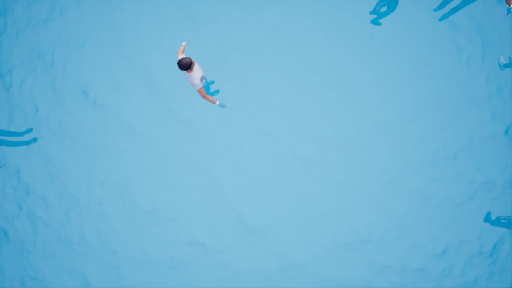person: (171, 37, 232, 115)
